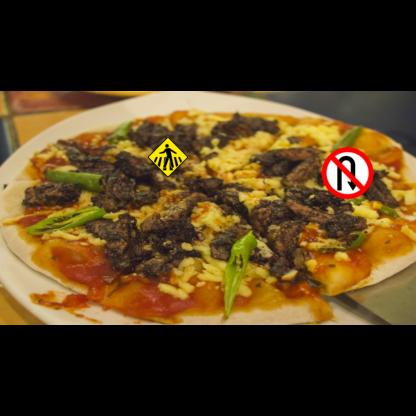A-32b: (147, 136, 188, 178)
